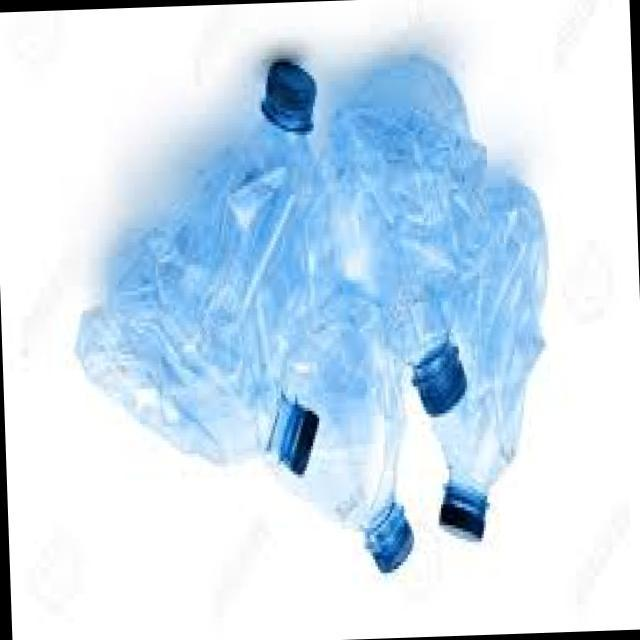defected: (68, 225, 325, 496), (319, 58, 502, 426), (400, 170, 570, 555), (266, 287, 422, 586)
